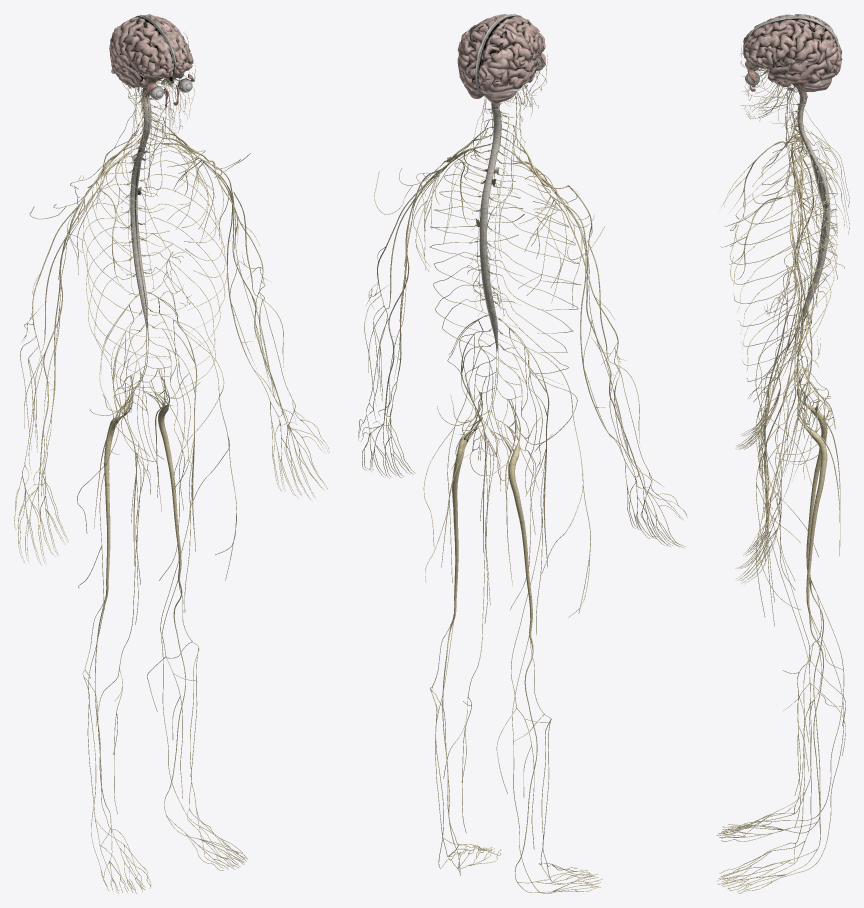
Rendered from nervous.opt.glb.
3 renders of one model, left to right at view 1: azimuth 30°, elevation 25°; view 2: azimuth 150°, elevation 25°; view 3: azimuth 270°, elevation 25°, orthographic. The views are drawn at different scales.
Visible parts, largest first — view 1: intercostal-nerves-r, spinal-dura, intercostal-nerves-l, sciatic-nerve-r, sciatic-nerve-l; view 2: spinal-dura, intercostal-nerves-l, intercostal-nerves-r, sciatic-nerve-r, sciatic-nerve-l, saphenous-nerve-r; view 3: spinal-dura, intercostal-nerves-l, intercostal-nerves-r, sciatic-nerve-l, sciatic-nerve-r, middle-frontal-gyrus-l, saphenous-nerve-l, lateral-femoral-cutaneous-nerve-l, median-nerve-l, saphenous-nerve-r, middle-temporal-gyrus-l, precentral-gyrus-l (+18 smaller).
Part boxes in pixels (x1,y1,x2,y2): intercostal-nerves-r: (82,148,173,392); spinal-dura: (130,95,151,335); intercostal-nerves-l: (141,143,227,389); sciatic-nerve-r: (104,376,132,595); sciatic-nerve-l: (147,369,181,577); spinal-dura: (475,103,501,352); intercostal-nerves-l: (429,154,524,369); intercostal-nerves-r: (491,163,581,373); sciatic-nerve-r: (494,399,532,632); sciatic-nerve-l: (452,393,481,613); saphenous-nerve-r: (496,452,545,849); spinal-dura: (797,96,830,330); intercostal-nerves-l: (730,153,837,382); intercostal-nerves-r: (730,140,837,371); sciatic-nerve-l: (797,384,827,612); sciatic-nerve-r: (797,370,827,576); middle-frontal-gyrus-l: (745,29,793,62); saphenous-nerve-l: (761,453,845,827); lateral-femoral-cutaneous-nerve-l: (755,340,818,616); median-nerve-l: (769,198,802,508); saphenous-nerve-r: (761,423,845,795); middle-temporal-gyrus-l: (773,59,828,82); precentral-gyrus-l: (776,21,804,61).
Size of the model in its own units: 0.6675 by 1.69 by 0.2426.
12 materials, 12 textured.
